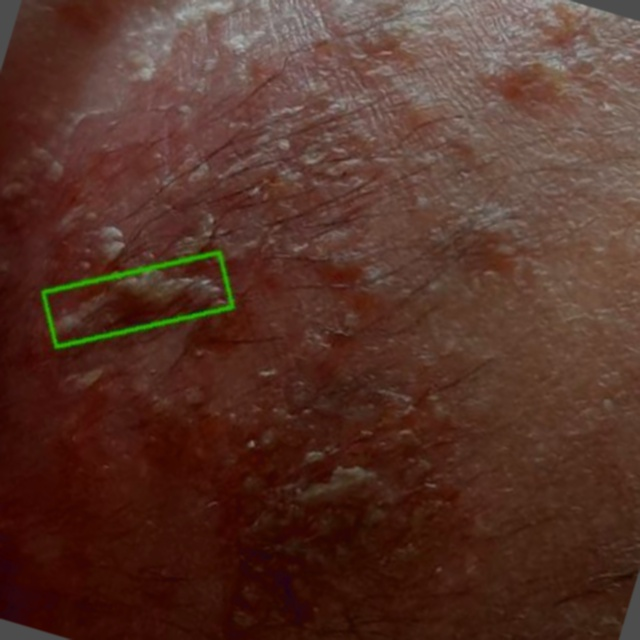Seborrheic Dermatitis: (43, 253, 231, 347)
